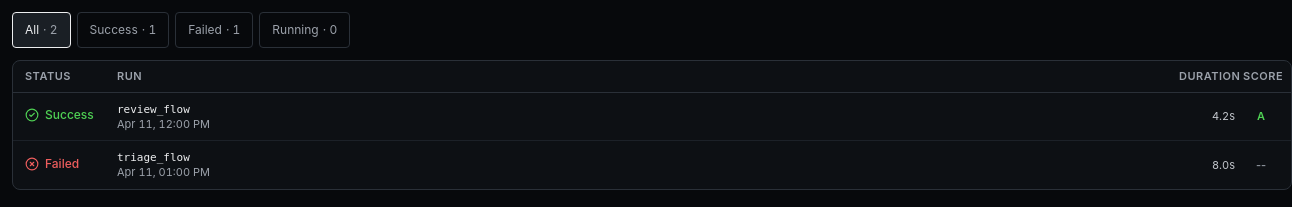
RunList › renders and filters runs
Check: the text "review_flow" is shown, box [117, 102, 190, 116]
Check: the text "triage_flow" is shown, box [117, 151, 190, 164]
Step 1. Click the button "Failed· 1" → (214, 30), box [175, 12, 253, 48]
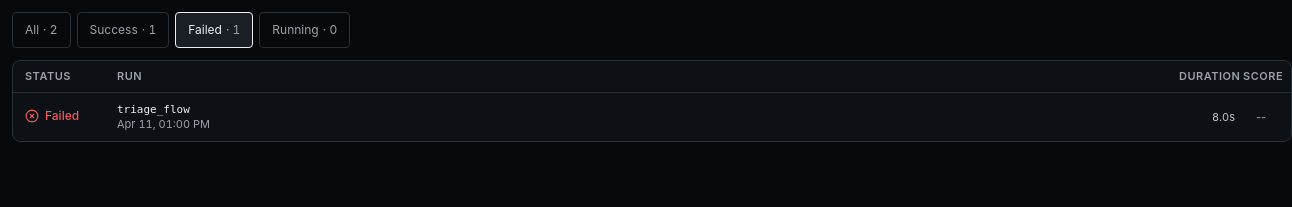
Check: the text "triage_flow" is shown, box [117, 103, 190, 116]
Check: the link "review_flow" is gone
Step 2. Click the button "Success· 1" → (123, 30), box [77, 12, 169, 48]
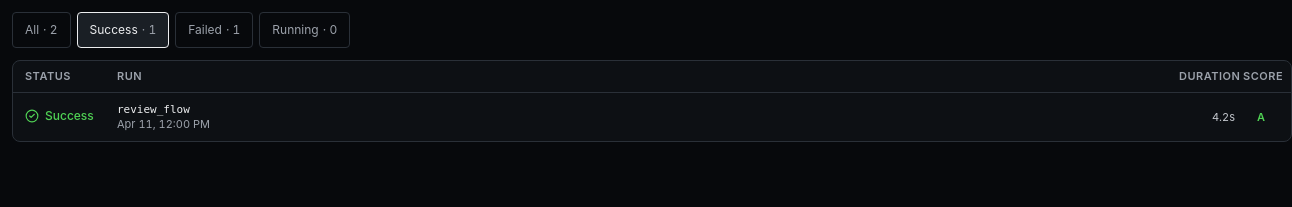
Check: the text "review_flow" is shown, box [117, 103, 190, 116]
Check: the link "triage_flow" is gone
